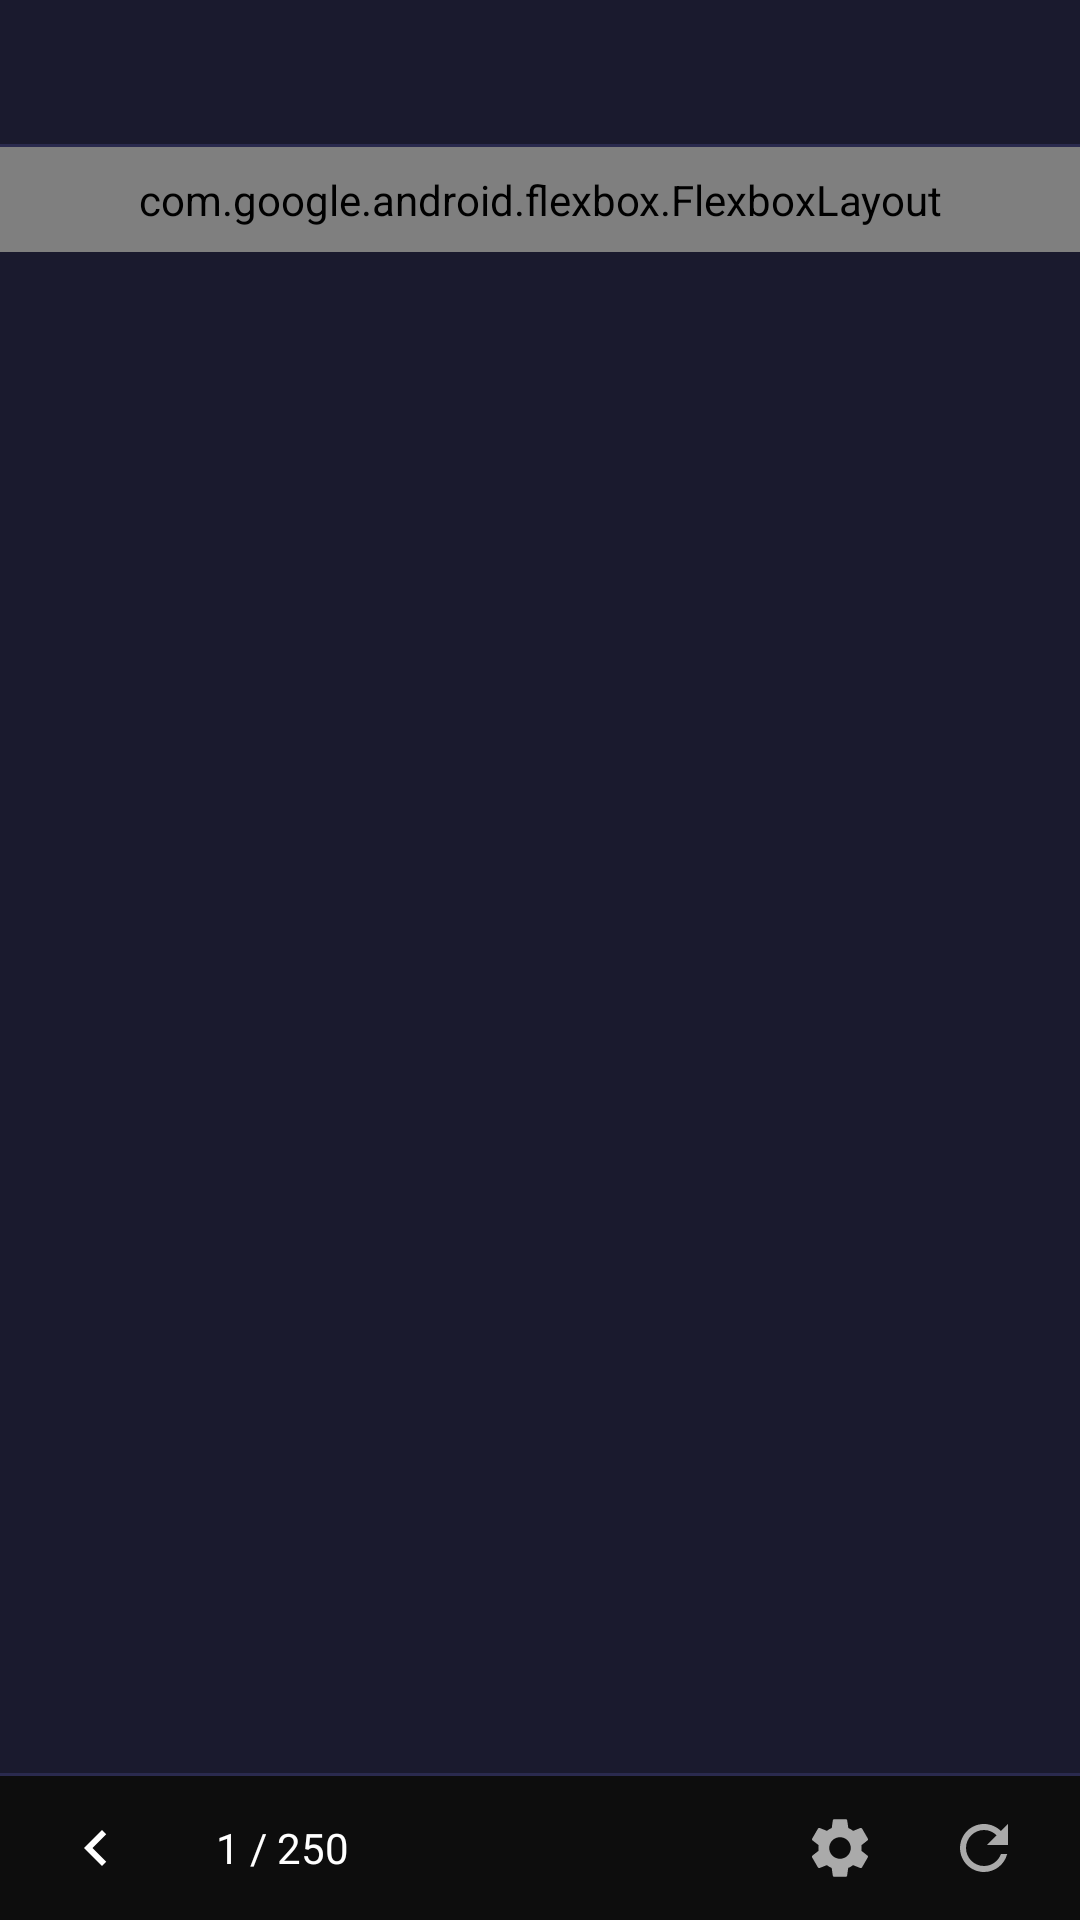

Where to tap for icons on this 1080*1920 app screen, as point (x, y):
Reload: point (984, 1848)
Settings: point (840, 1848)
← Prev: point (95, 1848)
